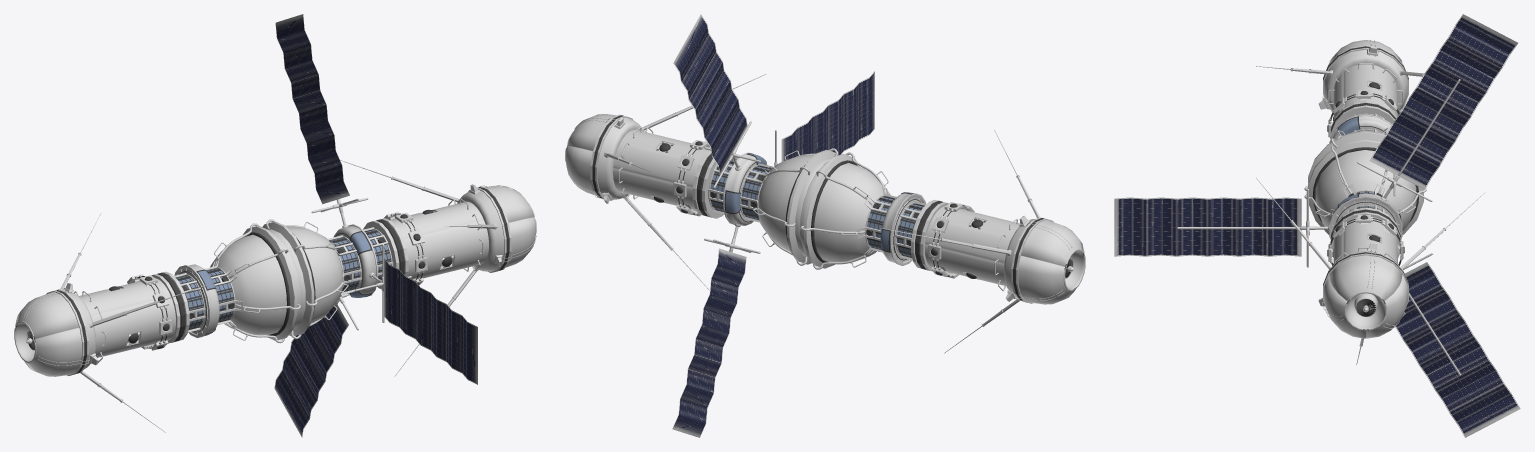
The picture shows the model from 3 angles, left to right: view 1: azimuth 30°, elevation 25°; view 2: azimuth 150°, elevation 25°; view 3: azimuth 270°, elevation 25°; orthographic projection.
Visible parts, largest first — view 1: xuakuai001, xuakuai, tynb; view 2: xuakuai001, xuakuai, tynb; view 3: tynb, xuakuai, xuakuai001.
Part boxes in pixels (<box>): xuakuai001: <box>14,212,300,432</box>; xuakuai: <box>262,160,536,376</box>; tynb: <box>274,14,477,437</box>; xuakuai001: <box>800,129,1085,353</box>; xuakuai: <box>565,74,838,290</box>; tynb: <box>672,14,874,437</box>; tynb: <box>1114,14,1520,437</box>; xuakuai: <box>1256,139,1485,364</box>; xuakuai001: <box>1256,40,1424,193</box>.
Size of the model in its own units: 1.1 by 0.8924 by 0.7751.
Materials: 6 (1 with a texture image).
